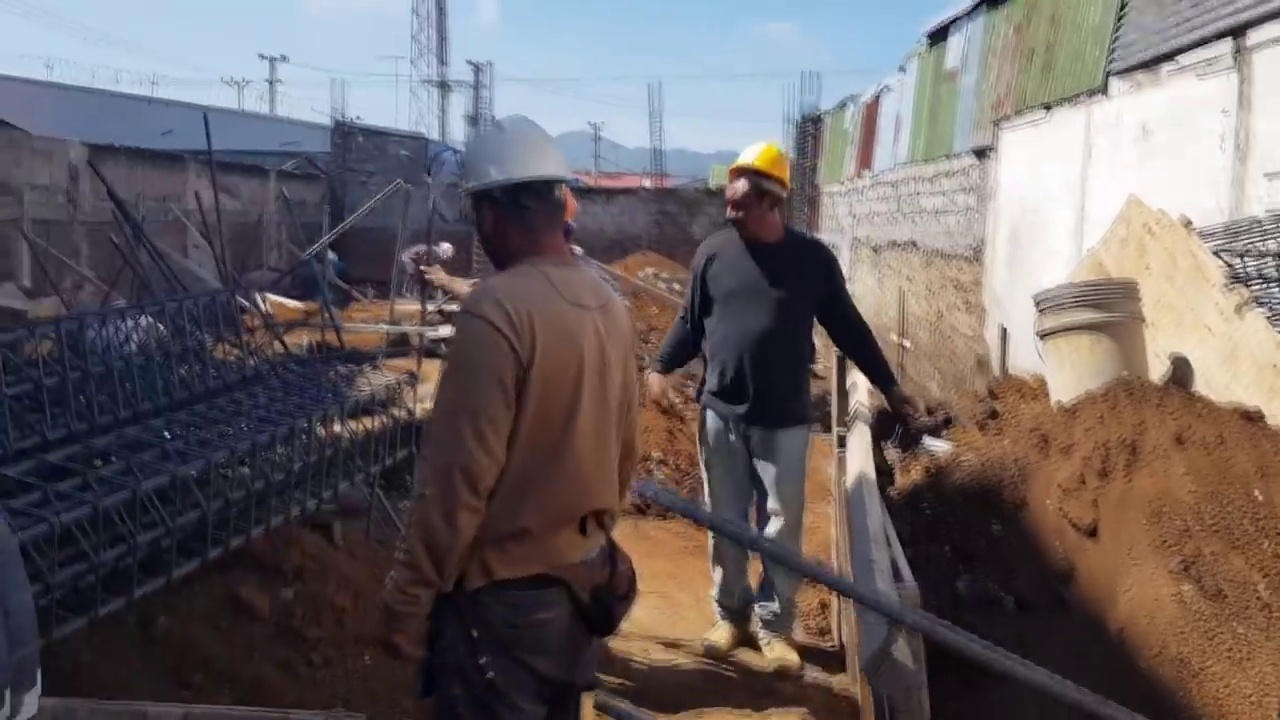helmet: (452, 111, 577, 200), (721, 141, 796, 207)
helmet-on: (452, 106, 577, 276), (722, 139, 794, 247)
person: (377, 107, 642, 703), (654, 137, 916, 673)
